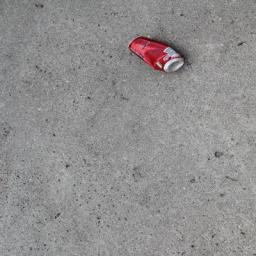FOD: (128, 34, 189, 78)
